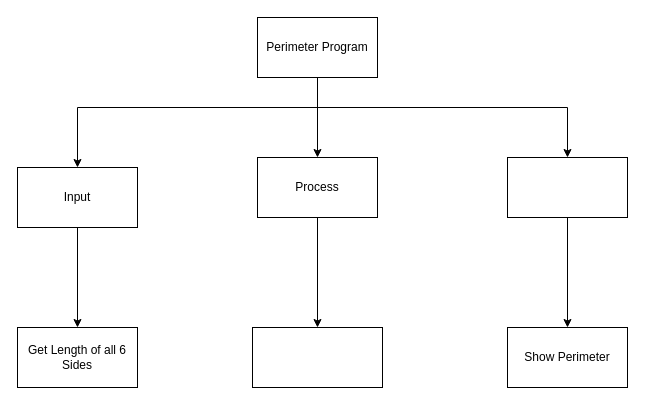
Image size: 645x405. Some labels were removed from this diagram. The centre of each missing label's shape, as x and y in pixels:
Output: (x=567, y=187)
Perimeter = Length * 6: (x=317, y=357)
